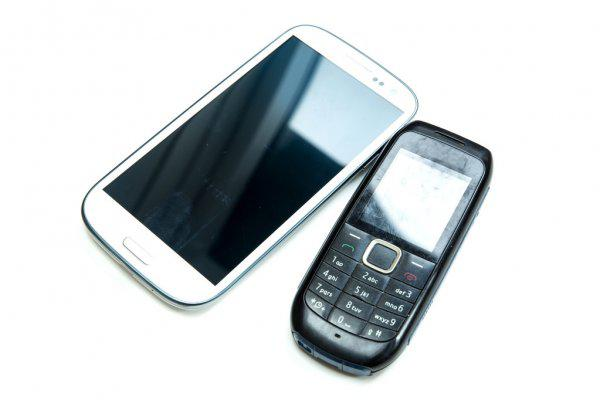mobile: (82, 24, 419, 310)
